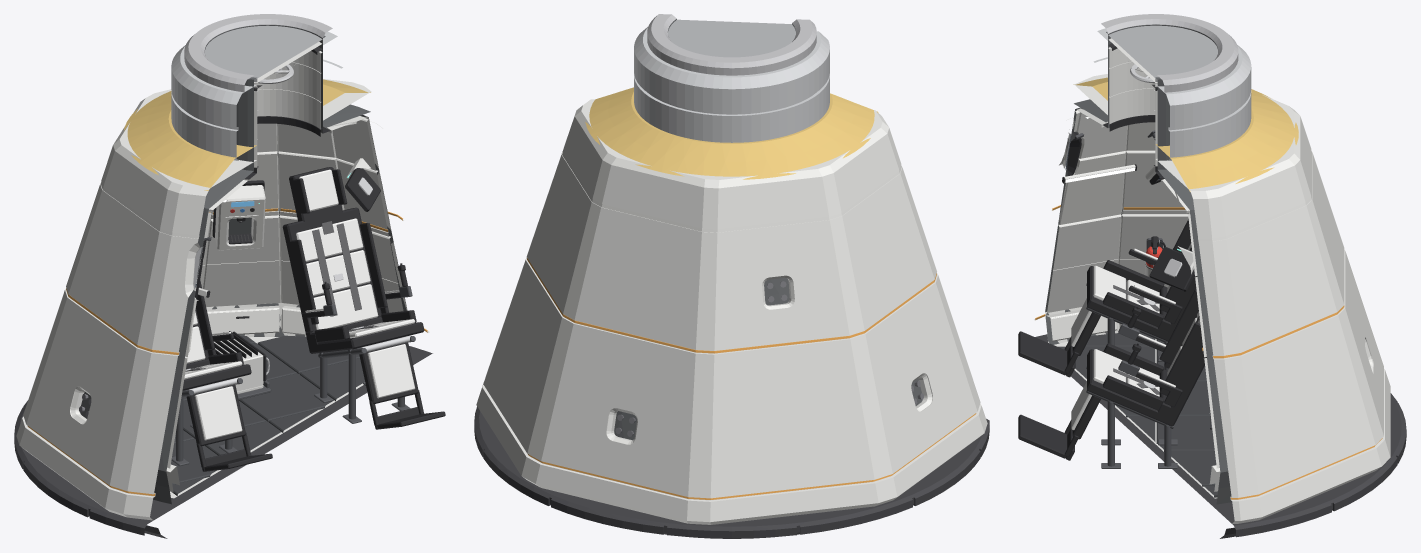
Rendered from ax_cmd_02_kestrel_capsule_cutaway.glb.
The picture shows the model from 3 angles, left to right: view 1: azimuth 30°, elevation 25°; view 2: azimuth 150°, elevation 25°; view 3: azimuth 270°, elevation 25°; orthographic projection. The views are drawn at different scales.
Visible parts, largest first — view 1: ext_shell, seat_1_cushions, pressure_vessel, ext_mli_crown, ext_heat_shield, ext_nose_cap, panel_b1_f03, ext_docking_hatch, tunnel_liner, seat_1_bolsters, ext_docking_port, floor_tile_16 (+35 smaller); view 2: ext_shell, ext_nose_cap, ext_mli_crown, ext_heat_shield, ext_docking_port, ext_docking_hatch, ext_orange_stripes, pressure_vessel; view 3: ext_shell, ext_mli_crown, ext_nose_cap, ext_heat_shield, pressure_vessel, panel_b1_f09, ext_docking_hatch, seat_1_bolsters, panel_b2_f09, ext_docking_port, tunnel_liner, panel_b2_f08 (+24 smaller).
Part boxes in pixels (x1,y1,x2,y2): ext_shell: (16, 79, 429, 520); seat_1_cushions: (296, 169, 415, 338); pressure_vessel: (80, 25, 406, 504); ext_mli_crown: (124, 79, 370, 190); ext_heat_shield: (14, 346, 432, 538); ext_nose_cap: (171, 31, 342, 160); panel_b1_f03: (202, 215, 281, 306); ext_docking_hatch: (205, 25, 322, 82); tunnel_liner: (254, 51, 322, 167); seat_1_bolsters: (289, 169, 416, 342); ext_docking_port: (184, 14, 332, 92); floor_tile_16: (239, 373, 333, 421); ext_shell: (476, 99, 987, 524); ext_nose_cap: (634, 27, 829, 142); ext_mli_crown: (585, 87, 878, 179); ext_heat_shield: (474, 406, 989, 538); ext_docking_port: (647, 14, 816, 75); ext_docking_hatch: (668, 19, 795, 57); ext_orange_stripes: (527, 258, 976, 499); pressure_vessel: (614, 19, 922, 440); ext_shell: (1034, 74, 1390, 523); ext_mli_crown: (1073, 77, 1298, 191); ext_nose_cap: (1093, 28, 1251, 160); ext_heat_shield: (1035, 334, 1406, 538); pressure_vessel: (1045, 24, 1232, 504); panel_b1_f09: (1047, 214, 1121, 312); ext_docking_hatch: (1108, 25, 1217, 81); seat_1_bolsters: (1103, 289, 1203, 410); panel_b2_f09: (1059, 151, 1125, 224); ext_docking_port: (1101, 14, 1238, 92); tunnel_liner: (1108, 47, 1157, 166); panel_b2_f08: (1122, 150, 1189, 214).
Size of the model in its own units: 2.97 by 2.83 by 2.36.
39 materials, 1 textured.
